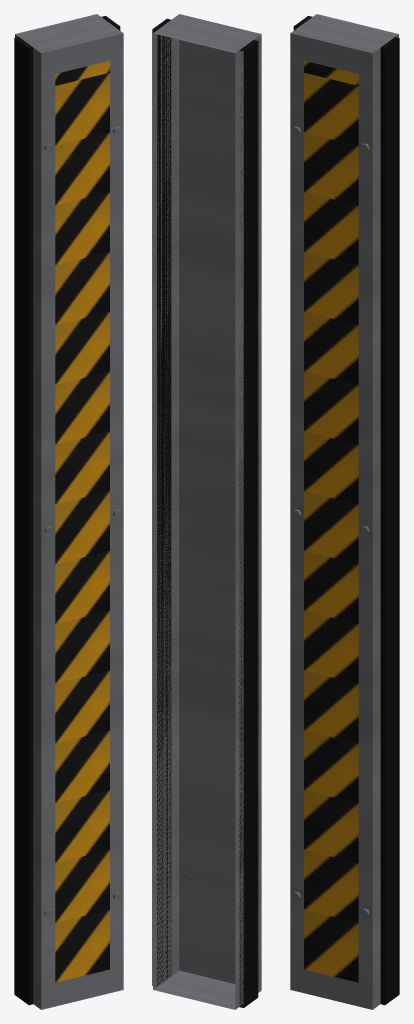
The model's file is SM_LFD_B4_DoorPost.fbx.
The picture shows the model from 3 angles, left to right: view 1: azimuth 30°, elevation 25°; view 2: azimuth 150°, elevation 25°; view 3: azimuth 330°, elevation 25°; orthographic projection.
Parts seen in each view (by area): view 1: SM_LFD_B4_DoorPost_LOD0; view 2: SM_LFD_B4_DoorPost_LOD0; view 3: SM_LFD_B4_DoorPost_LOD0.
Part boxes in pixels (bbox=[...]): SM_LFD_B4_DoorPost_LOD0: bbox=[14, 14, 123, 1009]; SM_LFD_B4_DoorPost_LOD0: bbox=[152, 14, 261, 1009]; SM_LFD_B4_DoorPost_LOD0: bbox=[290, 14, 399, 1009].
Size of what is drawn, in the model's own units: 0.4 by 4 by 0.211.
